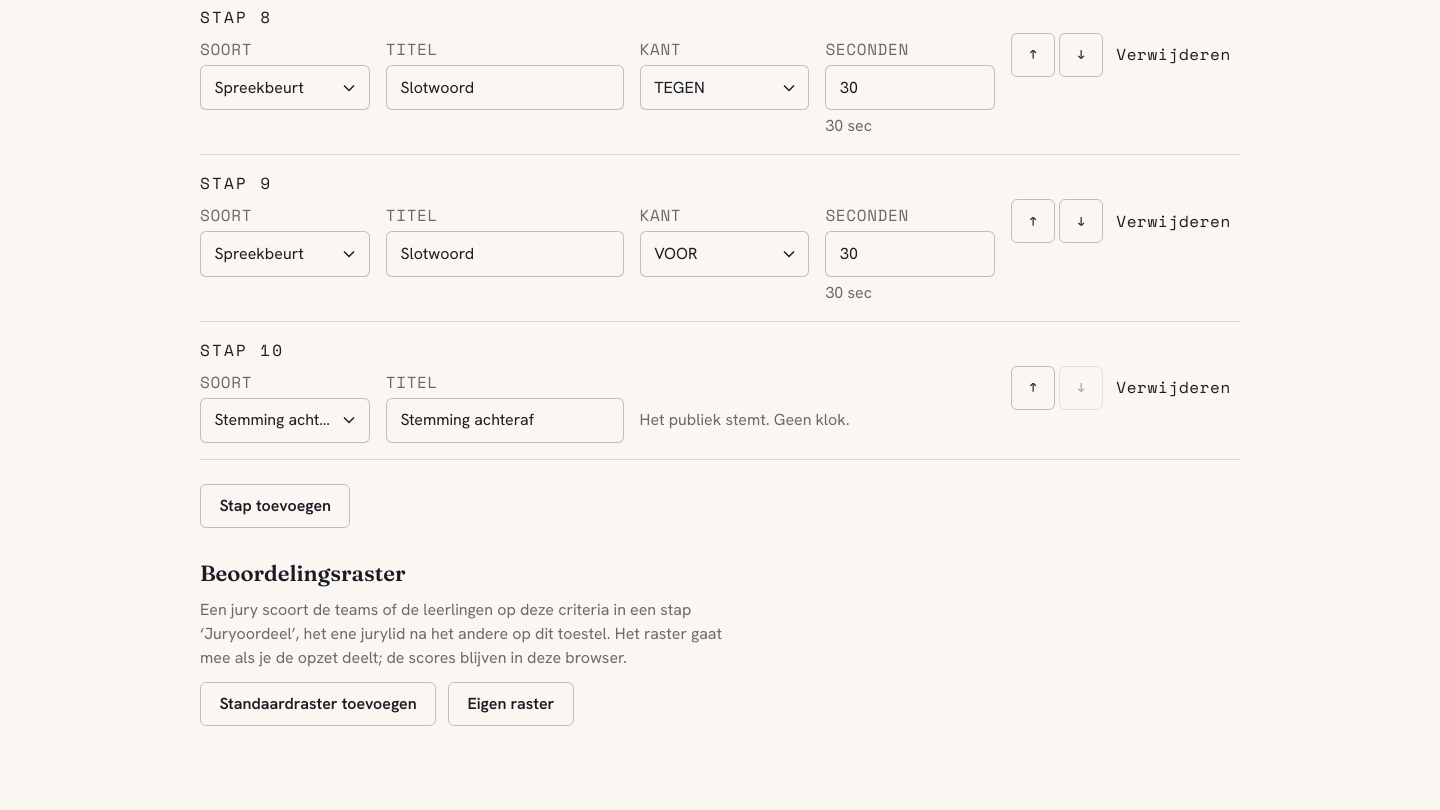
Scenario: the jury rubric (#10) › adds the standard rubric in the UI language, then a jury step at the end
(page scrolled)
Click the button "Standaardraster toevoegen" at (318, 704), box 200,682 -> 436,726
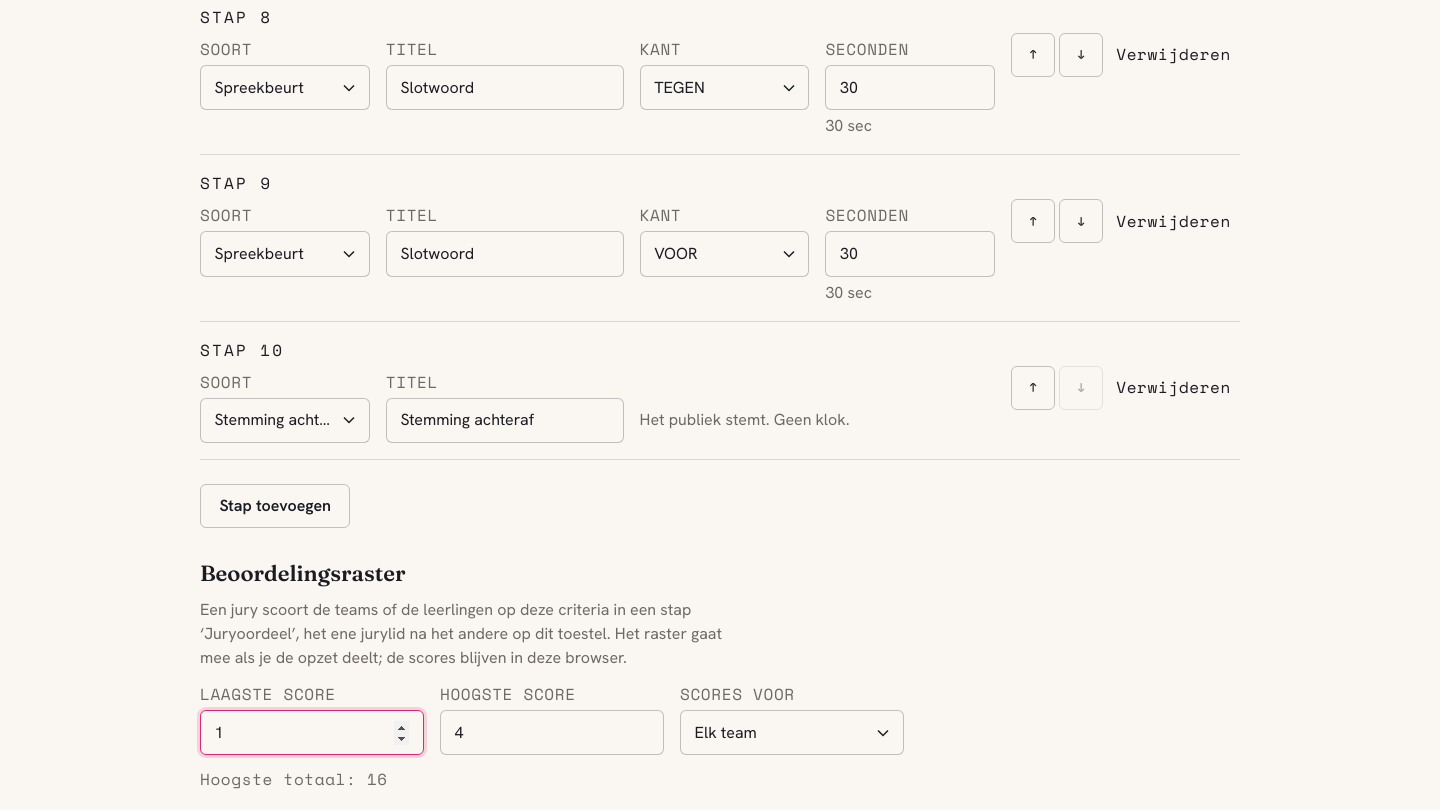
Expected: the number field labelled "Hoogste score" holds "4", 440,710 -> 664,755
Expected: the text "Hoogste totaal: 16" is shown, 200,767 -> 388,791
Click the button "Stap toevoegen" at (275, 506), box 200,484 -> 350,528
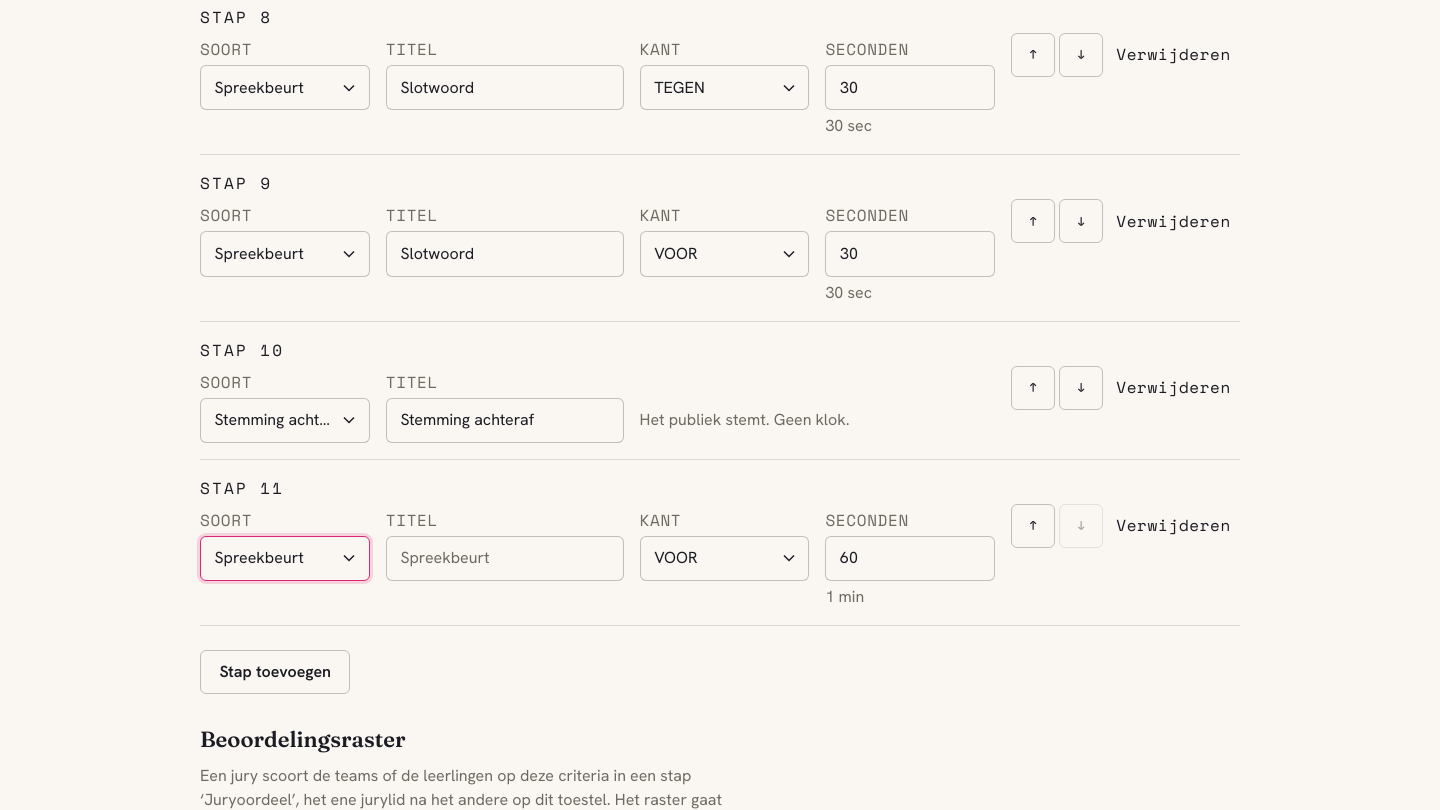
Select "Juryoordeel" in the dropdown labelled "Soort" below "Stap 11" at (285, 558), box 200,536 -> 370,581
(page scrolled)
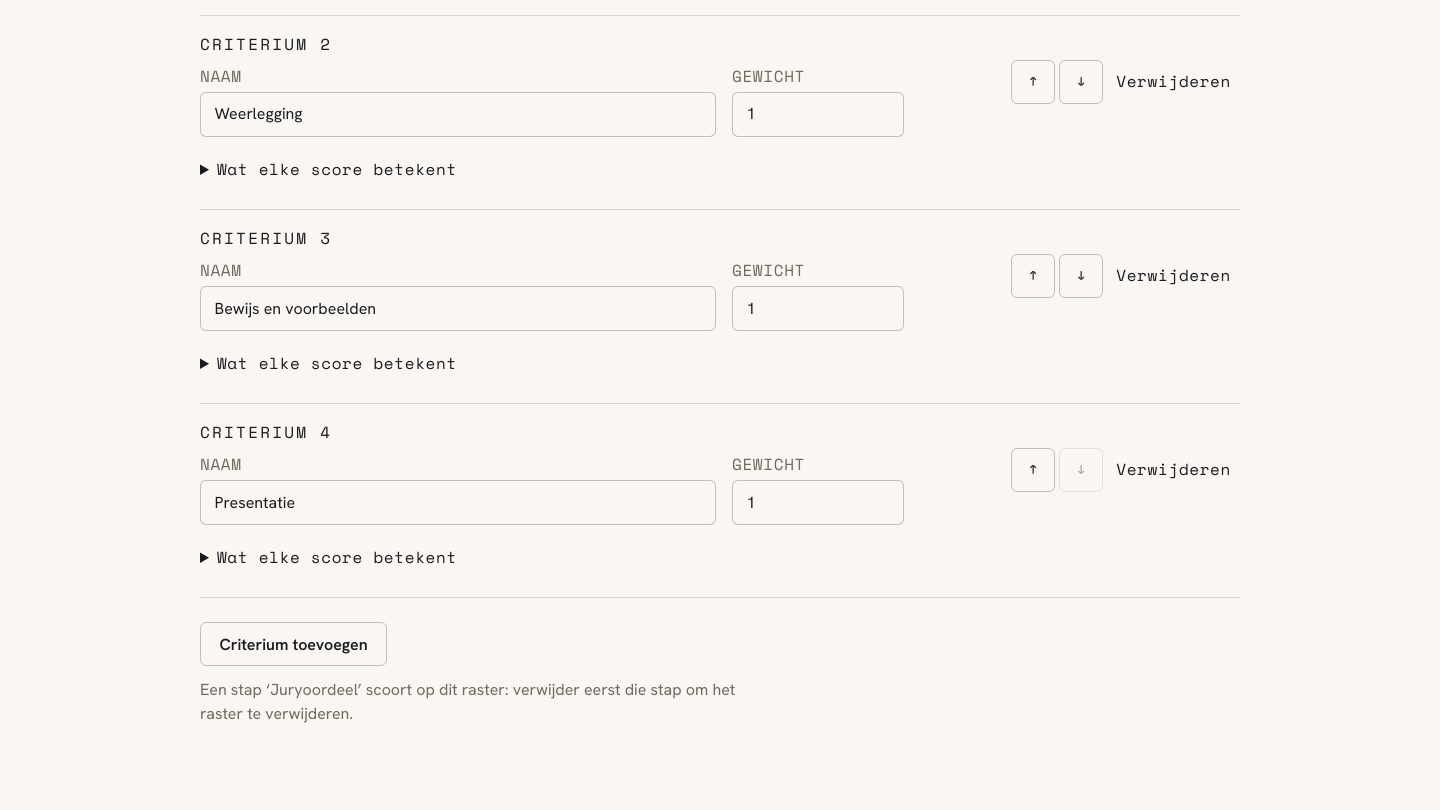
Expected: the text "Een stap ‘Juryoordeel’ scoort op dit raster" is shown, 200,679 -> 735,724
